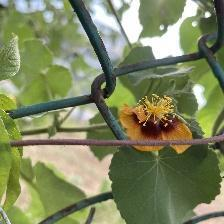indian mallow: (117, 97, 194, 157)
